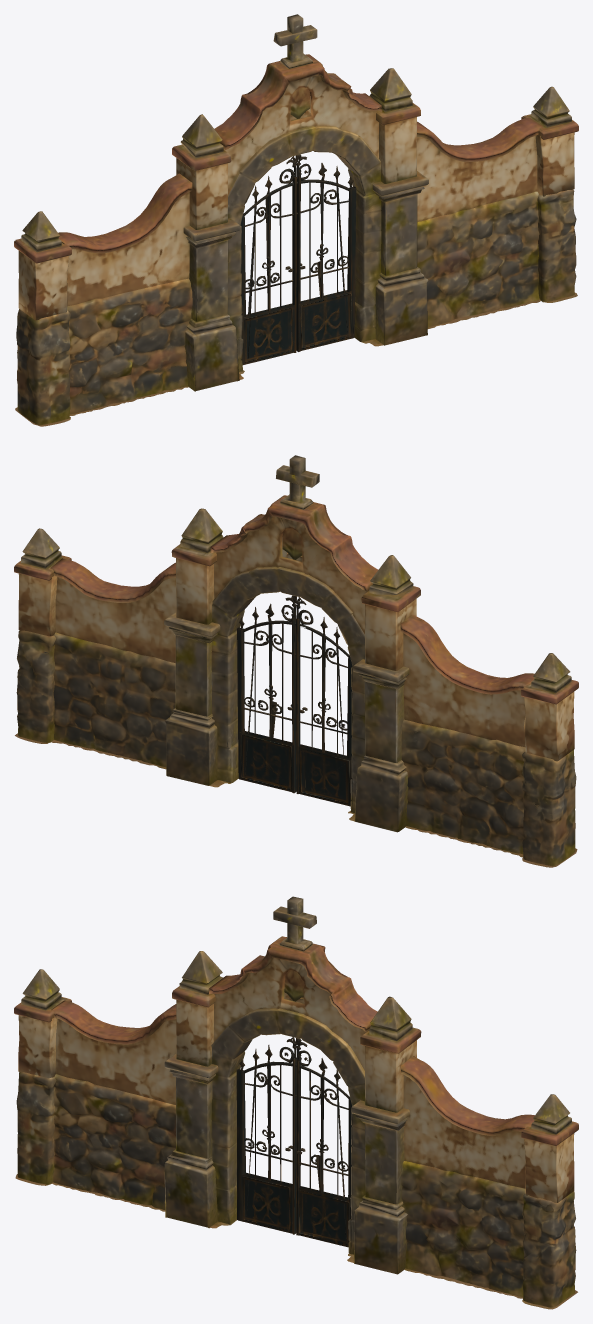
The model's file is Meshy_AI_cemetery_stone_gateway_wall_3d_20261110_texture.obj.
3 renders of one model, top to bottom at view 1: azimuth 30°, elevation 25°; view 2: azimuth 150°, elevation 25°; view 3: azimuth 330°, elevation 25°, orthographic.
Parts seen in each view (by area): view 1: Meshy_AI_cemetery_stone_gateway_wall_3d_20261110_texture; view 2: Meshy_AI_cemetery_stone_gateway_wall_3d_20261110_texture; view 3: Meshy_AI_cemetery_stone_gateway_wall_3d_20261110_texture.
Boxes of the visible parts, left/top/right/bottom form: Meshy_AI_cemetery_stone_gateway_wall_3d_20261110_texture: left=14, top=14, right=578, bottom=426; Meshy_AI_cemetery_stone_gateway_wall_3d_20261110_texture: left=14, top=455, right=578, bottom=867; Meshy_AI_cemetery_stone_gateway_wall_3d_20261110_texture: left=14, top=896, right=578, bottom=1309.
Bounding box in the file's own units: 0.957 × 0.5645 × 0.0923.
Materials: 1 (1 with a texture image).
